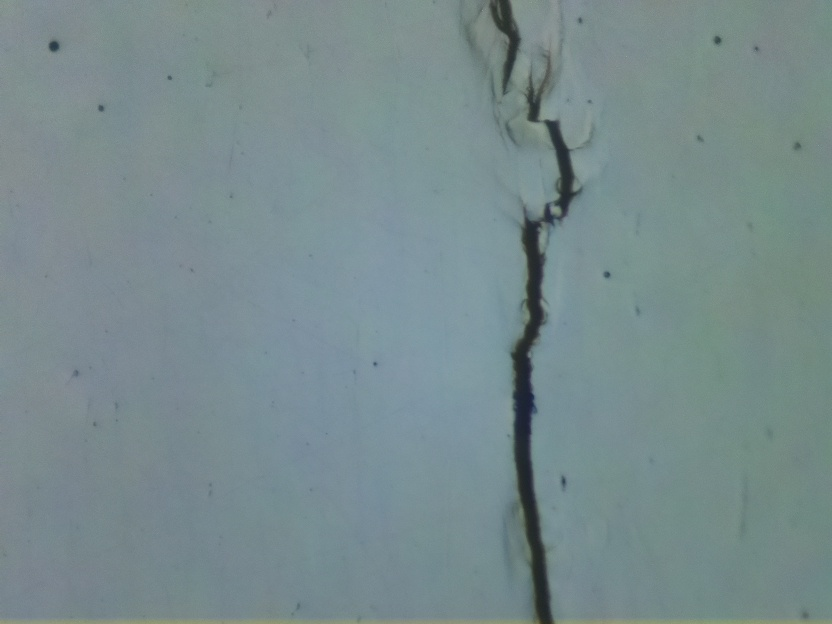crack: (493, 0, 585, 624)
